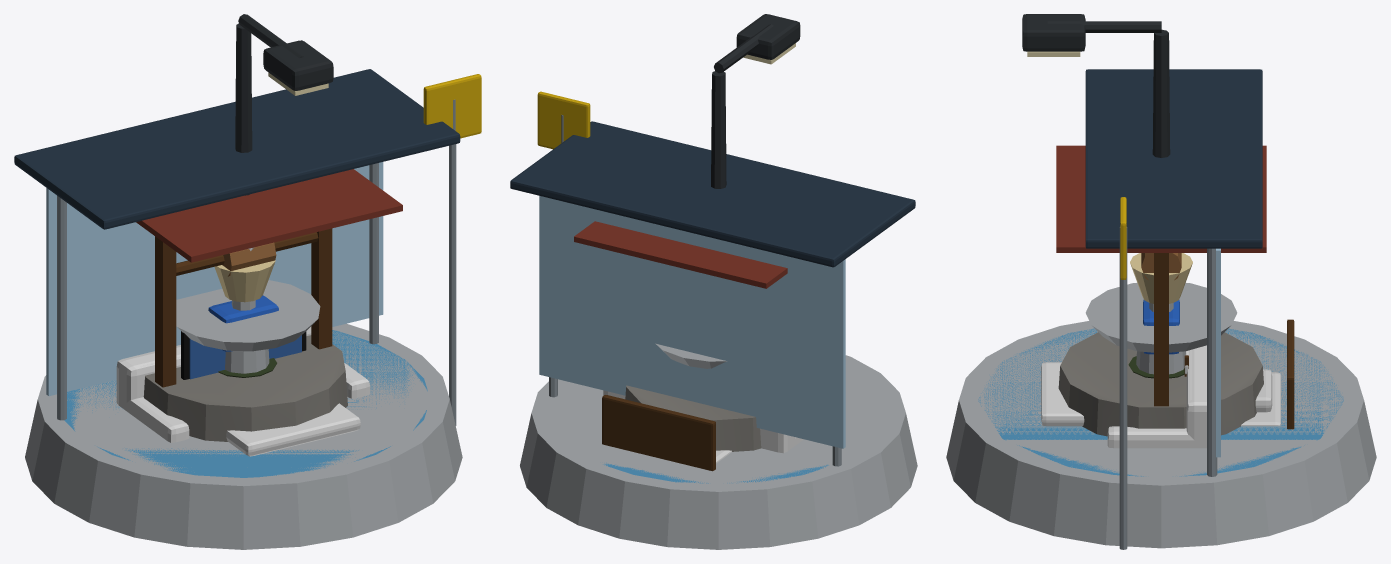
The model's file is furniture.glb.
3 renders of one model, left to right at view 1: azimuth 30°, elevation 25°; view 2: azimuth 150°, elevation 25°; view 3: azimuth 270°, elevation 25°, orthographic. The views are drawn at different scales.
Visible parts, largest first — view 1: bus_stop, fountain, well, lamp_post, sofa, bed, tv, lamp_floor, mailbox; view 2: bus_stop, fountain, well, bed, lamp_post, sofa; view 3: fountain, bus_stop, well, lamp_post, bed, sofa, lamp_floor, mailbox.
Part boxes in pixels (<box>): bus_stop: <box>14,69,481,425</box>; fountain: <box>25,247,462,549</box>; well: <box>136,169,402,441</box>; lamp_post: <box>235,14,333,195</box>; sofa: <box>116,326,369,442</box>; bed: <box>226,403,360,456</box>; tv: <box>181,331,306,379</box>; lamp_floor: <box>214,260,275,302</box>; mailbox: <box>208,295,278,351</box>; bus_stop: <box>510,91,915,466</box>; fountain: <box>520,343,917,549</box>; well: <box>574,221,787,451</box>; bed: <box>602,395,731,471</box>; lamp_post: <box>711,14,800,188</box>; sofa: <box>603,390,803,453</box>; fountain: <box>946,283,1376,548</box>; bus_stop: <box>1085,69,1262,549</box>; well: <box>1056,145,1266,436</box>; lamp_post: <box>1022,14,1170,157</box>; bed: <box>1041,319,1294,429</box>; sofa: <box>1107,345,1206,448</box>; lamp_floor: <box>1130,253,1192,303</box>; mailbox: <box>1143,299,1179,354</box>.
Bounding box in the file's own units: 3.65 × 3.8 × 3.4.
